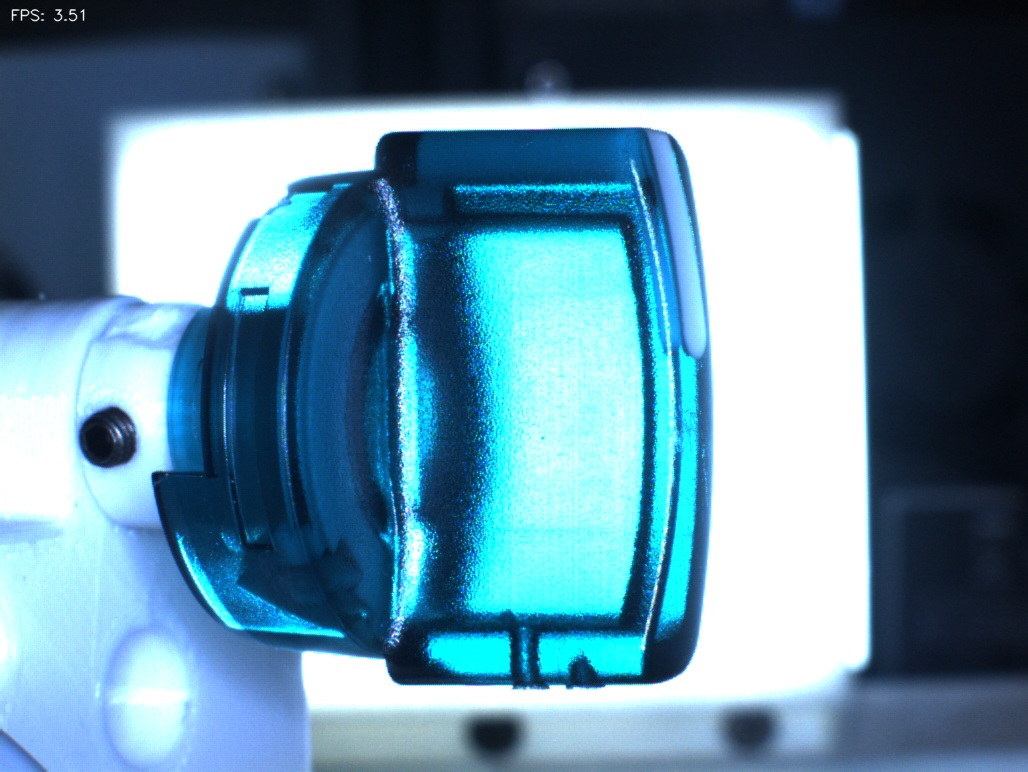Bulle: (548, 618, 630, 709)
